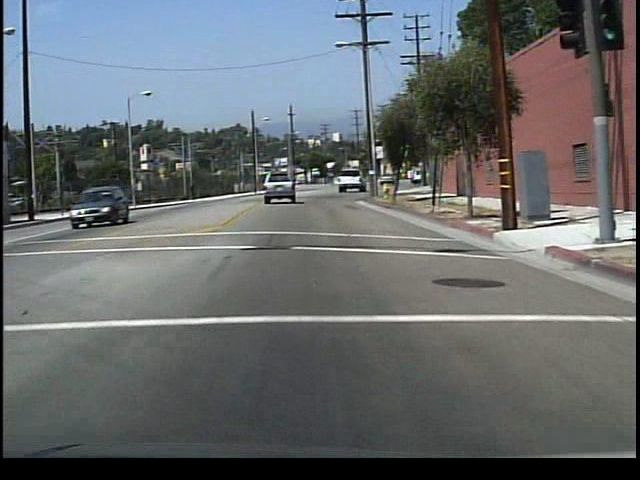person: (189, 180, 200, 202)
